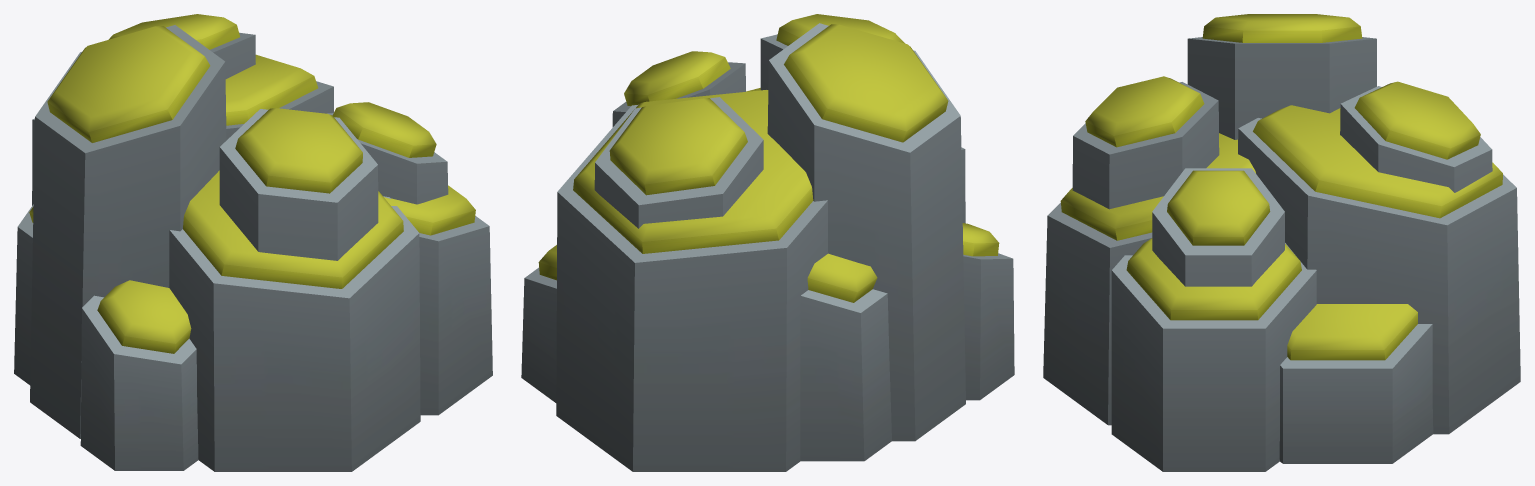
File: kaykit-medieval-hexagon-pack-mountain-c-grass.glb
The picture shows the model from 3 angles, left to right: view 1: azimuth 30°, elevation 25°; view 2: azimuth 150°, elevation 25°; view 3: azimuth 270°, elevation 25°; orthographic projection. The views are drawn at different scales.
Visible parts, largest first — view 1: mountain_C_grass; view 2: mountain_C_grass; view 3: mountain_C_grass.
Part boxes in pixels (<box>): mountain_C_grass: <box>14,14,492,471</box>; mountain_C_grass: <box>521,14,1014,471</box>; mountain_C_grass: <box>1043,14,1520,471</box>.
Bounding box in the file's own units: 1.76 × 1.55 × 2.02.
1 material, 1 textured.
